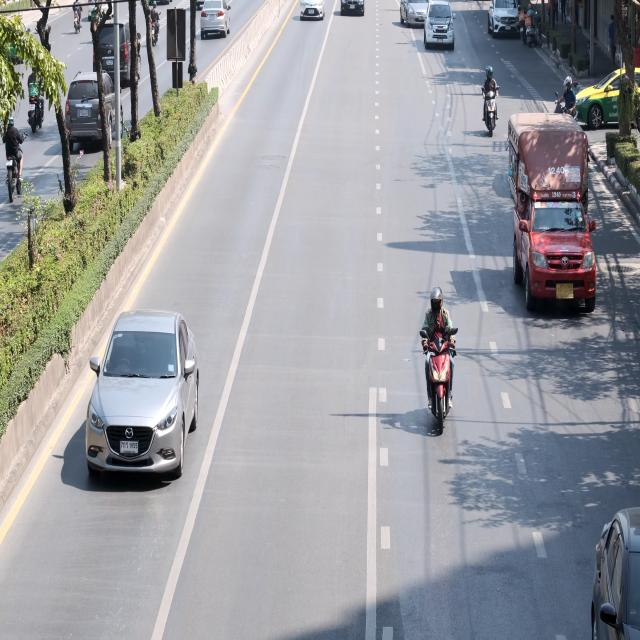cars: (72, 282, 210, 512), (507, 108, 607, 340), (566, 32, 640, 142), (58, 68, 127, 155), (90, 21, 144, 86), (424, 0, 458, 58), (199, 0, 230, 58), (487, 2, 518, 38), (399, 1, 429, 30), (297, 1, 328, 28)
motorcycle: (413, 272, 470, 446), (24, 29, 54, 134), (2, 107, 24, 217), (482, 53, 502, 154), (555, 70, 584, 130), (144, 5, 163, 43), (71, 1, 86, 42)
